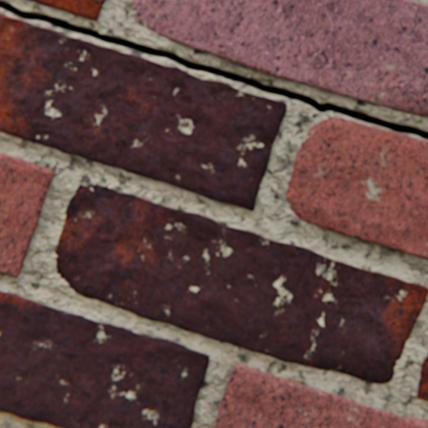brick: (57, 184, 427, 382), (0, 14, 286, 209), (132, 0, 427, 116), (0, 290, 209, 427), (286, 117, 427, 257), (214, 363, 427, 427), (0, 153, 55, 276), (31, 0, 106, 20), (417, 353, 427, 399)
crack: (0, 1, 427, 139)
